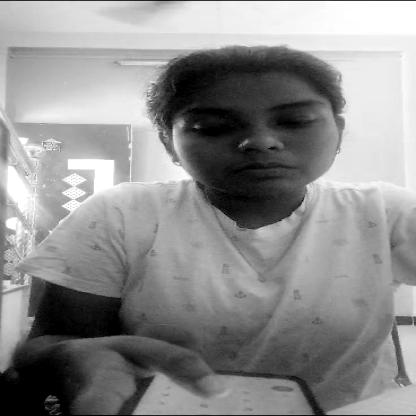Normal: (147, 52, 362, 193)
